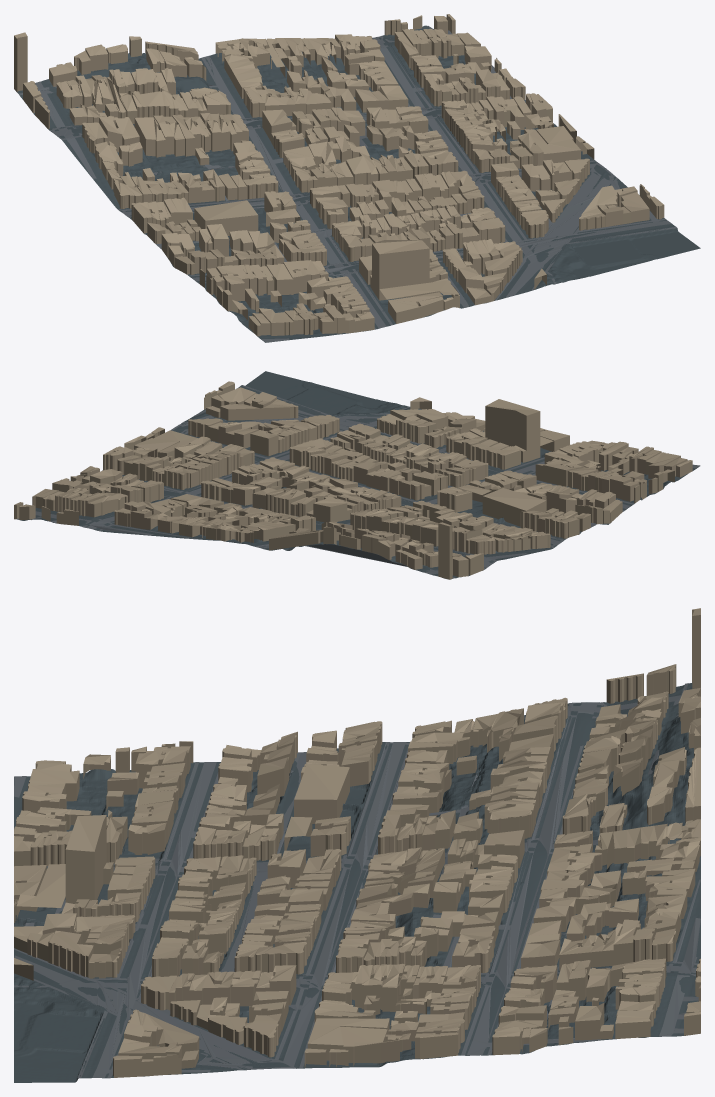
The model's file is epsg26910-1436-10895.lod0.glb.
The picture shows the model from 3 angles, top to bottom: view 1: azimuth 30°, elevation 25°; view 2: azimuth 150°, elevation 25°; view 3: azimuth 270°, elevation 25°; orthographic projection. The views are drawn at different scales.
Visible parts, largest first — view 1: epsg26910-1436-10895-lod0; view 2: epsg26910-1436-10895-lod0; view 3: epsg26910-1436-10895-lod0.
Part boxes in pixels (x1,y1,x2,y2): epsg26910-1436-10895-lod0: [14, 14, 700, 342]; epsg26910-1436-10895-lod0: [14, 371, 700, 579]; epsg26910-1436-10895-lod0: [14, 608, 700, 1082].
Bounding box in the file's own units: 384 × 118 × 384.
